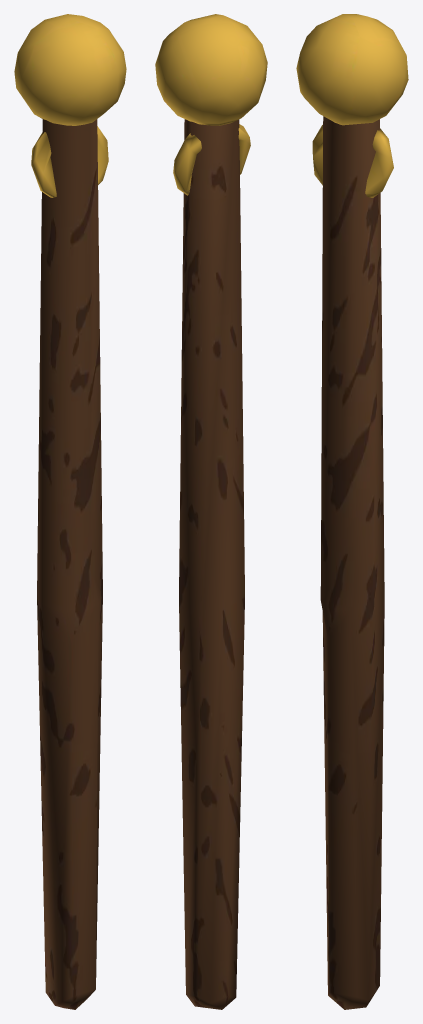
Rendered from enchanter-staff.glb.
3 views of the same model, side by side, from view 1: azimuth 30°, elevation 25°; view 2: azimuth 210°, elevation 25°; view 3: azimuth 330°, elevation 25° (orthographic).
Parts seen in each view (by area): view 1: staff; view 2: staff; view 3: staff.
Boxes of the visible parts, x1,y1,x2,y2 form: staff: (14,14,126,1009); staff: (155,14,267,1009); staff: (296,14,408,1009).
Bounding box in the file's own units: 0.0696 × 0.6715 × 0.0684.
1 material, 1 textured.
